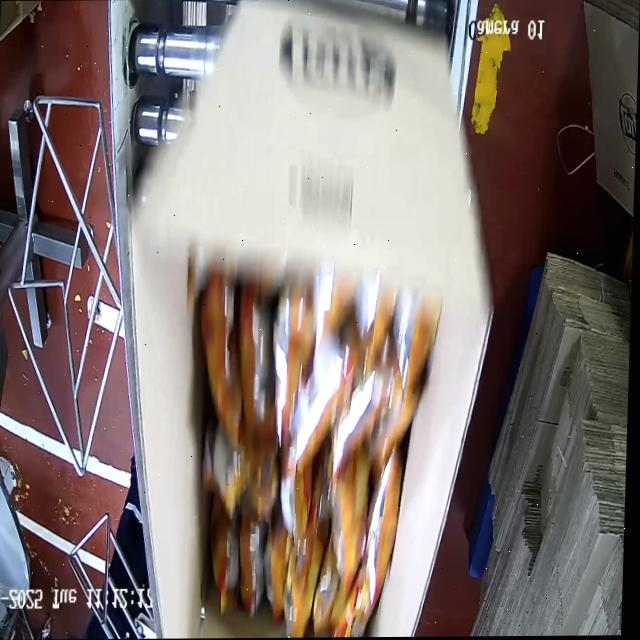FRENCH_CHEESE: (184, 273, 408, 628)
